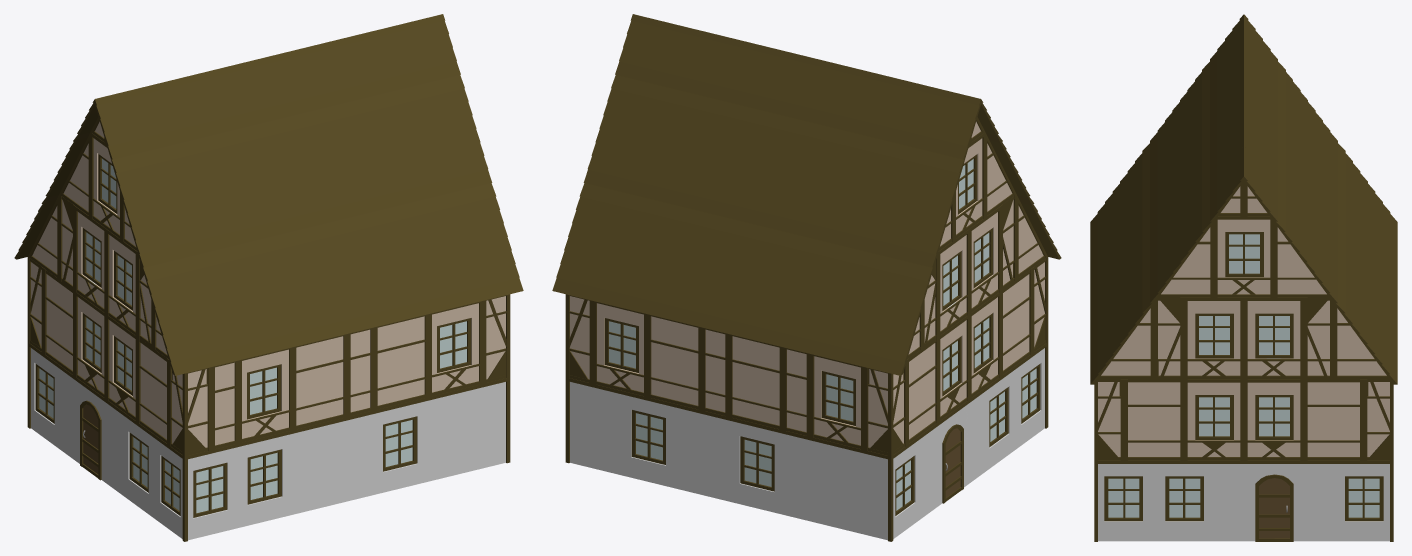
The model's file is House2.fbx.
The picture shows the model from 3 angles, left to right: view 1: azimuth 30°, elevation 25°; view 2: azimuth 150°, elevation 25°; view 3: azimuth 270°, elevation 25°; orthographic projection. The views are drawn at different scales.
Parts seen in each view (by area): view 1: RoofTile_3M151, RoofTile_3M152, RoofTile_3M143, RoofTile_3M135, RoofTile_3M149, L_Floor1_Wall_TwoWindows7, RoofTile_3M120, RoofTile_3M150, Bottom_Wall13, Bottom_Wall19, Wall_Plaster16, Wall_Plaster20 (+43 smaller); view 2: RoofTile_3M155, RoofTile_3M153, RoofTile_3M125, RoofTile_3M133, RoofTile_3M154, RoofTile_3M141, RoofTile_3M156, Bottom_Wall15, Bottom_Wall21, Wall_Plaster21, Wall_Plaster22, RoofTile_3M134 (+44 smaller); view 3: RoofTile_3M155, RoofTile_3M151, RoofTile_3M152, RoofTile_3M153, L_Floor1_Wall_TwoWindows6, Wall_TwoWindows13, Wall_Plaster13, Wall_Plaster17, Door8, RoofTile_3M143, RoofTile_3M125, OneWindow25 (+35 smaller).
Part boxes in pixels (left/top/right/bottom): RoofTile_3M151: left=182, top=199, right=457, bottom=366; RoofTile_3M152: left=150, top=91, right=426, bottom=258; RoofTile_3M143: left=133, top=30, right=395, bottom=150; RoofTile_3M135: left=395, top=75, right=492, bottom=198; RoofTile_3M149: left=426, top=183, right=523, bottom=306; L_Floor1_Wall_TwoWindows7: left=184, top=430, right=292, bottom=541; RoofTile_3M120: left=110, top=150, right=182, bottom=267; RoofTile_3M150: left=142, top=258, right=213, bottom=375; Bottom_Wall13: left=428, top=384, right=482, bottom=481; Bottom_Wall19: left=292, top=417, right=347, bottom=514; Wall_Plaster16: left=374, top=314, right=428, bottom=410; Wall_Plaster20: left=293, top=334, right=347, bottom=430; RoofTile_3M155: left=618, top=199, right=893, bottom=366; RoofTile_3M153: left=649, top=91, right=925, bottom=258; RoofTile_3M125: left=680, top=30, right=942, bottom=150; RoofTile_3M133: left=583, top=75, right=680, bottom=198; RoofTile_3M154: left=552, top=183, right=649, bottom=306; RoofTile_3M141: left=893, top=150, right=965, bottom=267; RoofTile_3M156: left=862, top=258, right=933, bottom=375; Bottom_Wall15: left=674, top=403, right=729, bottom=501; Bottom_Wall21: left=783, top=430, right=837, bottom=527; Wall_Plaster21: left=647, top=314, right=701, bottom=410; Wall_Plaster22: left=728, top=334, right=782, bottom=430; RoofTile_3M134: left=615, top=14, right=698, bottom=90; RoofTile_3M155: left=1338, top=161, right=1397, bottom=353; RoofTile_3M151: left=1090, top=161, right=1149, bottom=353; RoofTile_3M152: left=1150, top=80, right=1209, bottom=271; RoofTile_3M153: left=1278, top=80, right=1337, bottom=271; L_Floor1_Wall_TwoWindows6: left=1094, top=460, right=1213, bottom=541; Wall_TwoWindows13: left=1184, top=379, right=1303, bottom=460; Wall_Plaster13: left=1124, top=379, right=1183, bottom=460; Wall_Plaster17: left=1304, top=379, right=1363, bottom=460; Door8: left=1244, top=460, right=1303, bottom=541; RoofTile_3M143: left=1210, top=32, right=1243, bottom=190; RoofTile_3M125: left=1244, top=32, right=1277, bottom=190; OneWindow25: left=1333, top=460, right=1393, bottom=541.
Size of the model in its own units: 12.84 by 13.68 by 10.28.
